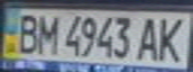3: (112, 12, 136, 61)
4: (97, 12, 118, 59), (60, 12, 81, 57)
9: (78, 12, 100, 59)
A: (136, 14, 163, 62)
B: (12, 10, 42, 55)
K: (154, 14, 190, 63)
M: (33, 11, 60, 56)
